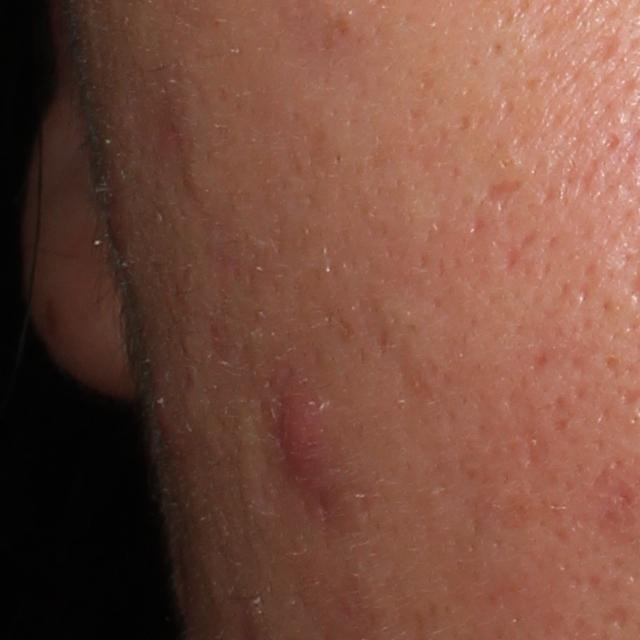atrophic_scar: (477, 174, 527, 214), (579, 34, 624, 72), (596, 599, 631, 630)
papule: (269, 380, 342, 498)
